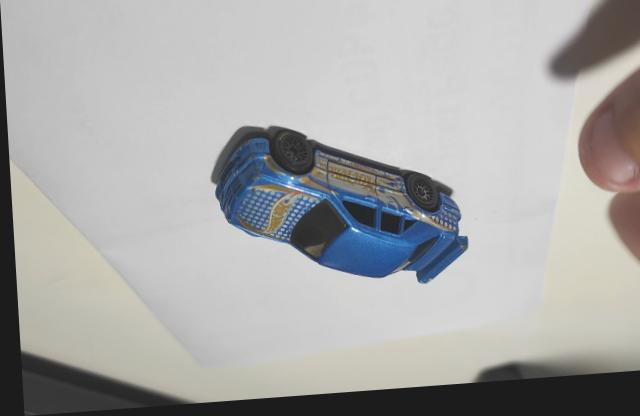04_MERZEDES: (208, 127, 466, 289)
